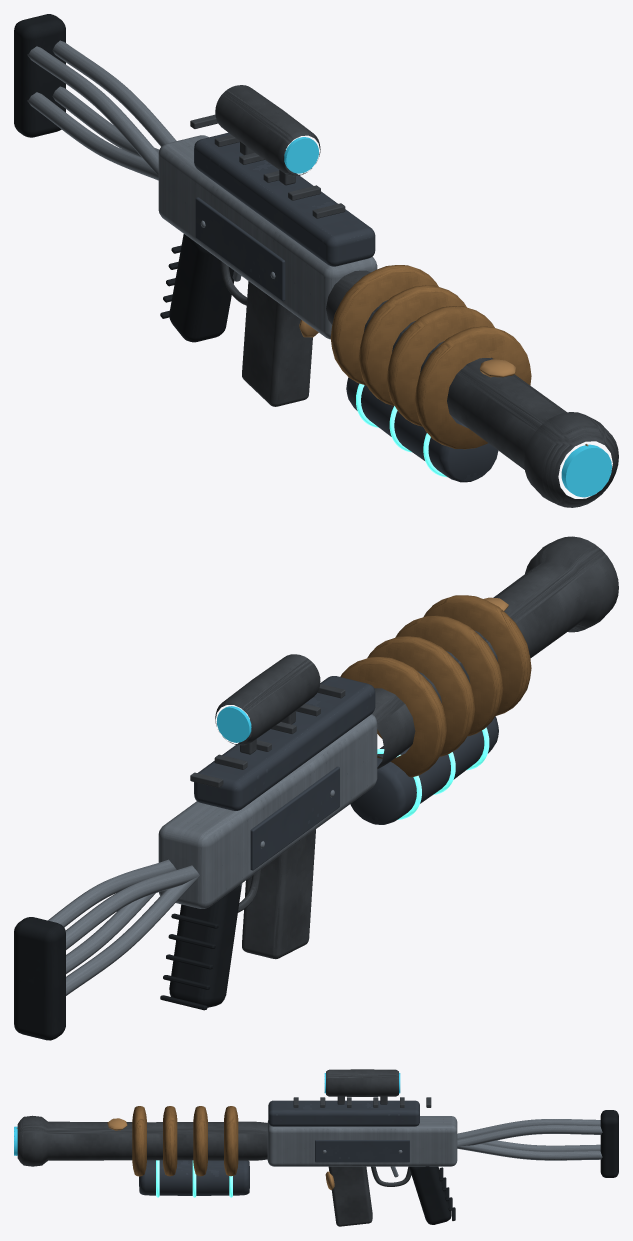
Rendered from beam-projector.lod1.glb.
The picture shows the model from 3 angles, top to bottom: view 1: azimuth 30°, elevation 25°; view 2: azimuth 150°, elevation 25°; view 3: azimuth 270°, elevation 25°; orthographic projection. The views are drawn at different scales.
Parts seen in each view (by area): view 1: darksteel / oil-blackened fittings, bronze / cast bronze with patina, alloy / machined anodized alloy, ceramic / ceramic composite panel, polymer / stippled polymer, crystal / faceted crystal, energy / emissive field channel, peened pin; view 2: darksteel / oil-blackened fittings, alloy / machined anodized alloy, bronze / cast bronze with patina, ceramic / ceramic composite panel, polymer / stippled polymer, crystal / faceted crystal, energy / emissive field channel; view 3: darksteel / oil-blackened fittings, alloy / machined anodized alloy, ceramic / ceramic composite panel, bronze / cast bronze with patina, polymer / stippled polymer, energy / emissive field channel, peened pin.
Boxes of the visible parts, box(x1,y1,x2,y2) form: darksteel / oil-blackened fittings: box(190, 85, 618, 507); bronze / cast bronze with patina: box(330, 265, 531, 449); alloy / machined anodized alloy: box(27, 40, 377, 339); ceramic / ceramic composite panel: box(194, 132, 498, 482); polymer / stippled polymer: box(14, 14, 234, 342); crystal / faceted crystal: box(284, 137, 611, 497); energy / emissive field channel: box(356, 383, 447, 477); peened pin: box(299, 319, 515, 377); darksteel / oil-blackened fittings: box(190, 536, 618, 959); alloy / machined anodized alloy: box(48, 714, 377, 995); bronze / cast bronze with patina: box(340, 595, 531, 777); ceramic / ceramic composite panel: box(194, 676, 498, 870); polymer / stippled polymer: box(14, 884, 240, 1040); crystal / faceted crystal: box(216, 706, 251, 742); energy / emissive field channel: box(377, 727, 489, 819); darksteel / oil-blackened fittings: box(17, 1069, 431, 1226); alloy / machined anodized alloy: box(267, 1116, 602, 1177); ceramic / ceramic composite panel: box(139, 1100, 419, 1195); bronze / cast bronze with patina: box(132, 1106, 238, 1176); polymer / stippled polymer: box(409, 1110, 618, 1224); energy / emissive field channel: box(156, 1160, 232, 1197); peened pin: box(107, 1118, 334, 1189).
Size of the model in its own units: 0.116 by 0.2751 by 0.9918.
Materials: 9 (5 with a texture image).
